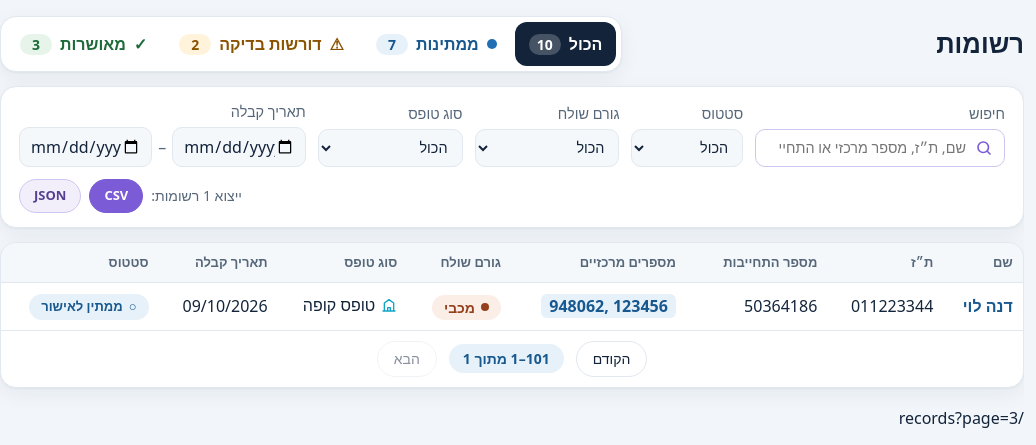
Test: RecordsPage › a count filters by its status and starts at page 1
Click the button "⚠ דורשות בדיקה 2". click: (262, 44)
box: [165,22,358,66]
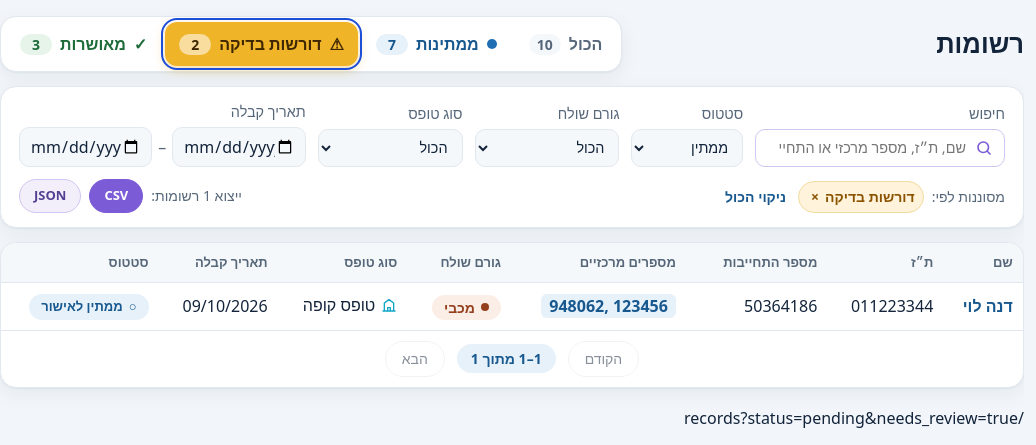
Now the text with test id "where" reads "/records?status=pending&needs_review=true", box [684,407,1024,429]
